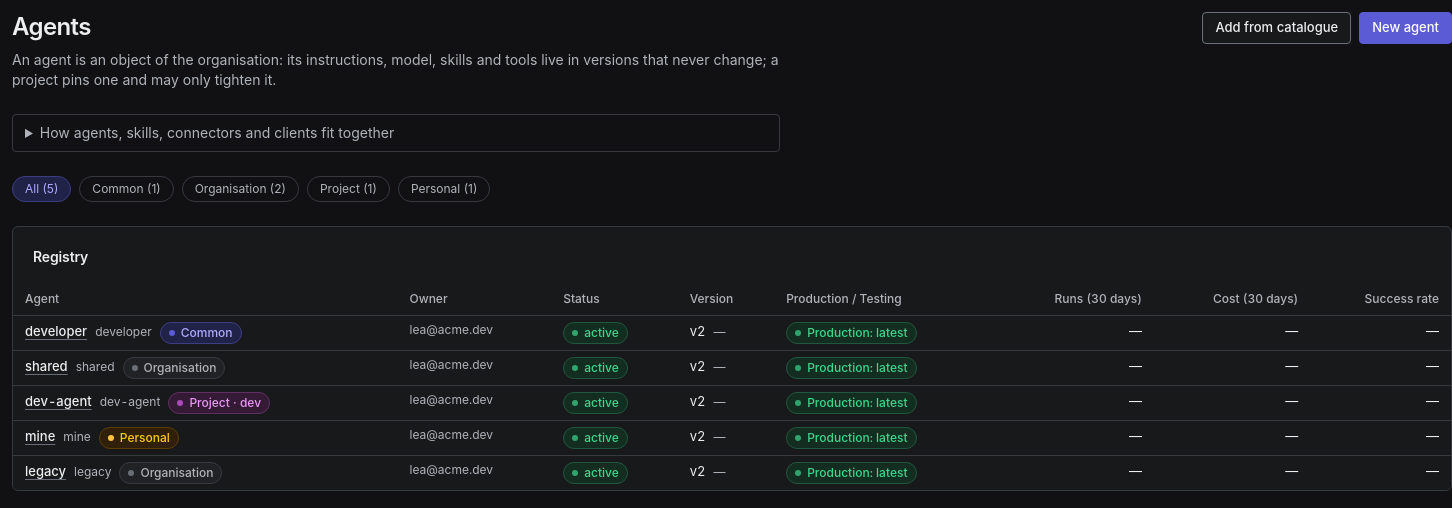
Test: agent scopes in the registry (S39-09) › shows who owns each agent, and filters by scope
Check: the element with test id "scope" reads "Common", box 181,325 -> 232,340
Check: the element with test id "scope" reads "Organisation", box 144,360 -> 216,375
Click the button "Personal (1)". click: (444, 189)
box: 398,176 -> 490,202
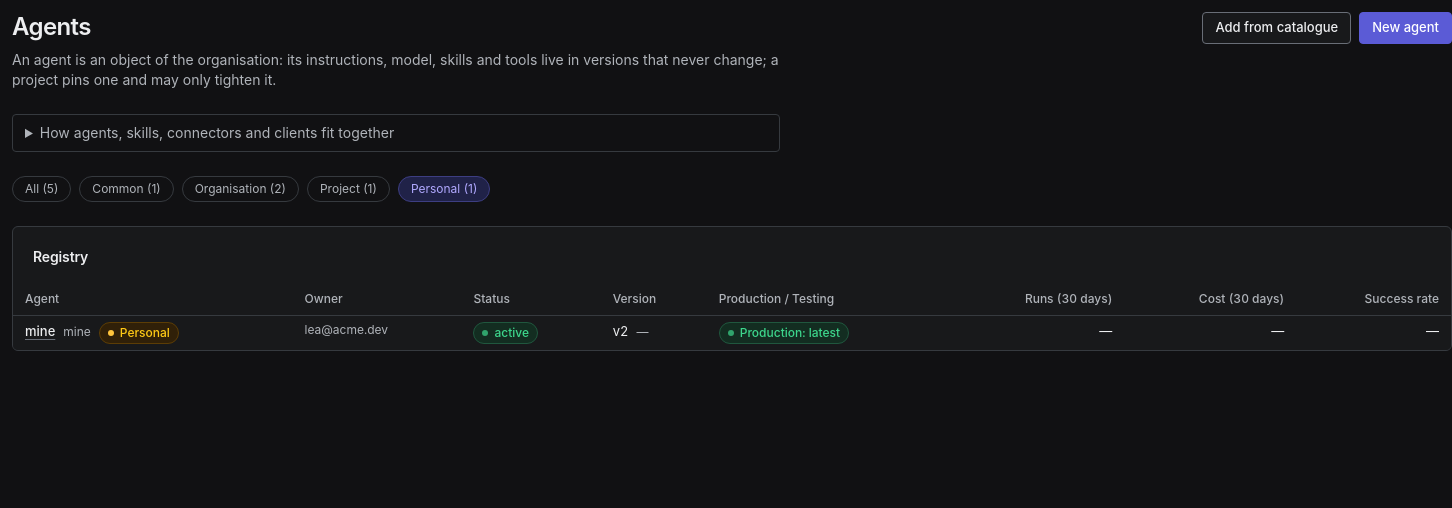
Check: the row with test id "agent-mine" is shown, box 13,316 -> 1451,350
Check: the row with test id "agent-developer" is gone
Check: the row with test id "agent-shared" is gone
Click the button "All (5)". click: (42, 189)
box: 12,176 -> 71,202
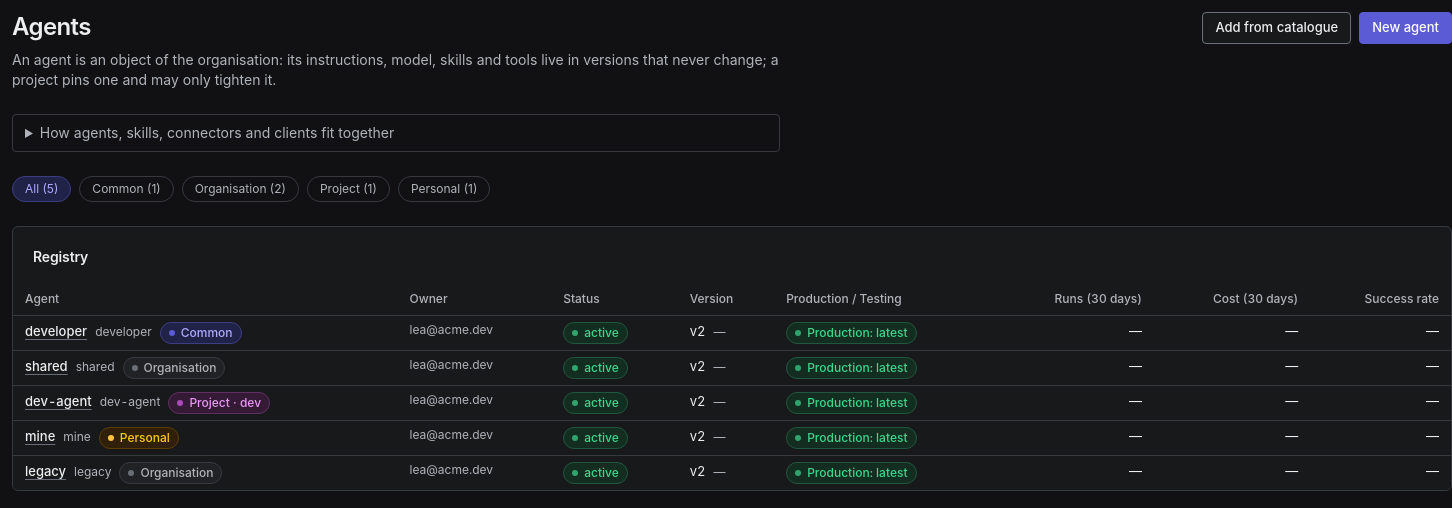
Check: the row with test id "agent-developer" is shown, box 13,316 -> 1451,350
